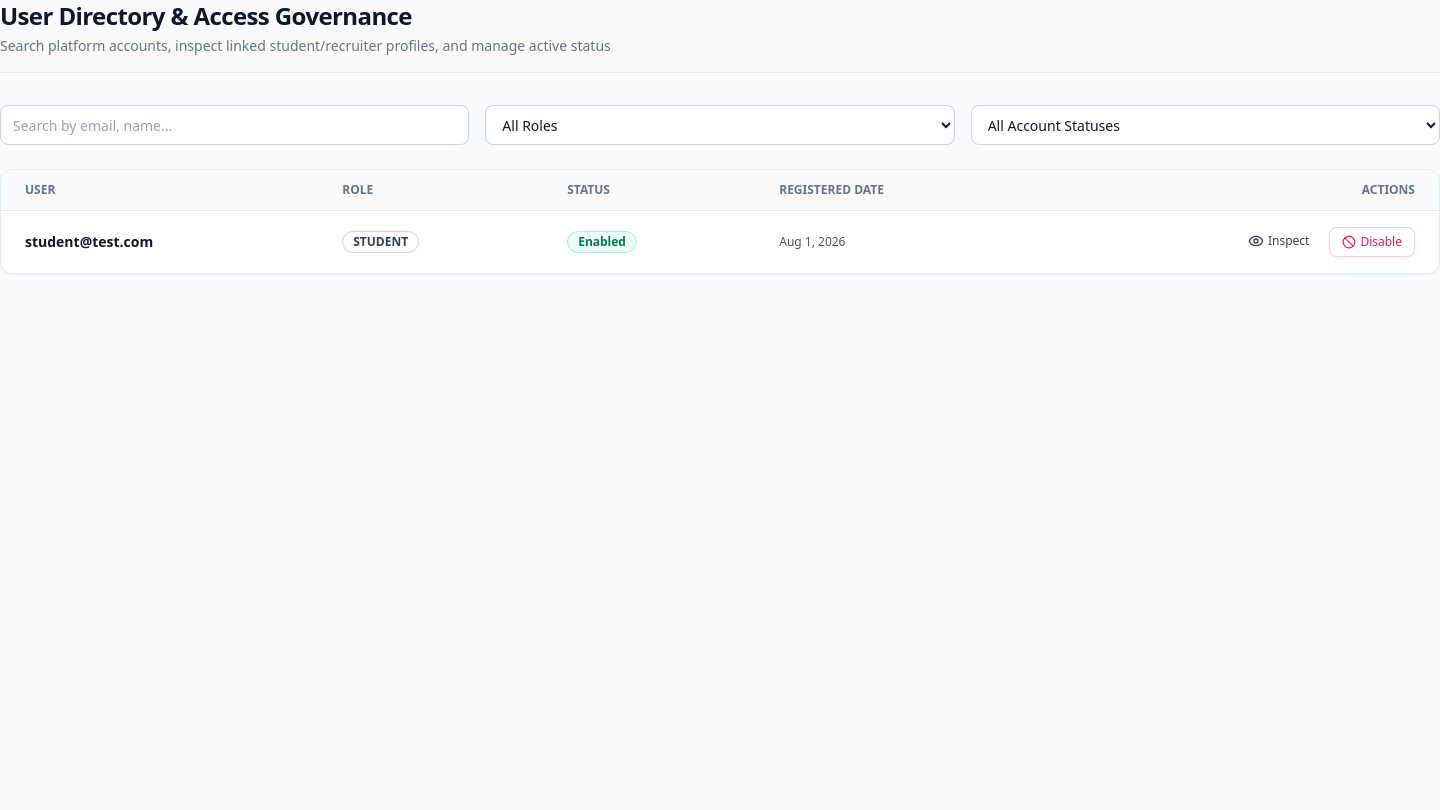
it: Admin Dashboard Integration Workflow › User Directory: Inspect user shows correct non-zero resume count
Expected: the text "student@test.com" is shown, [25,232,153,251]
# Click Inspect
Click the button "Inspect".
click(1279, 241)  # box [1236,227,1321,255]
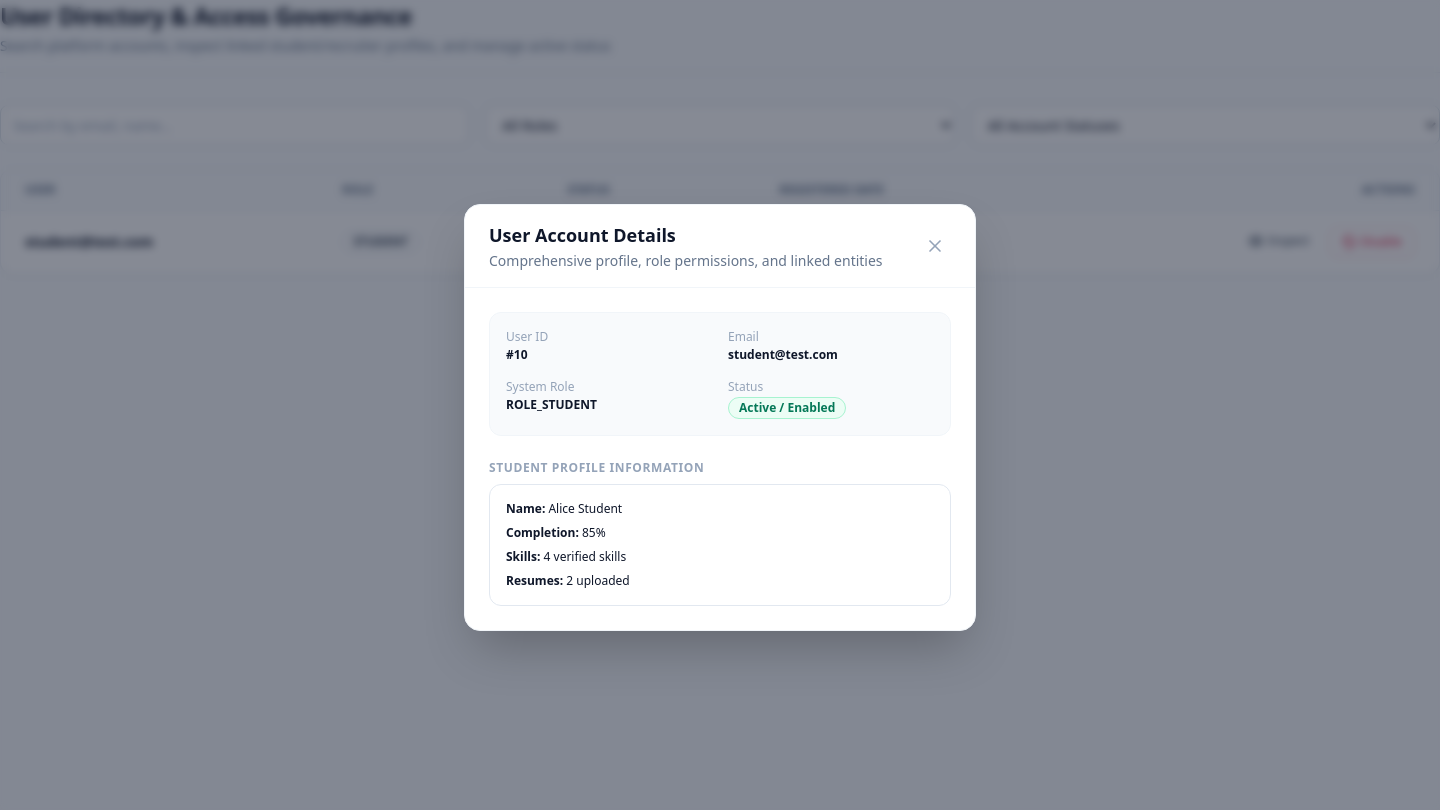
Expected: the heading "User Account Details" is shown, [489,222,676,246]
Expected: the text "2 uploaded" is shown, [506,572,630,588]
Expected: the text "4 verified skills" is shown, [506,548,626,564]
